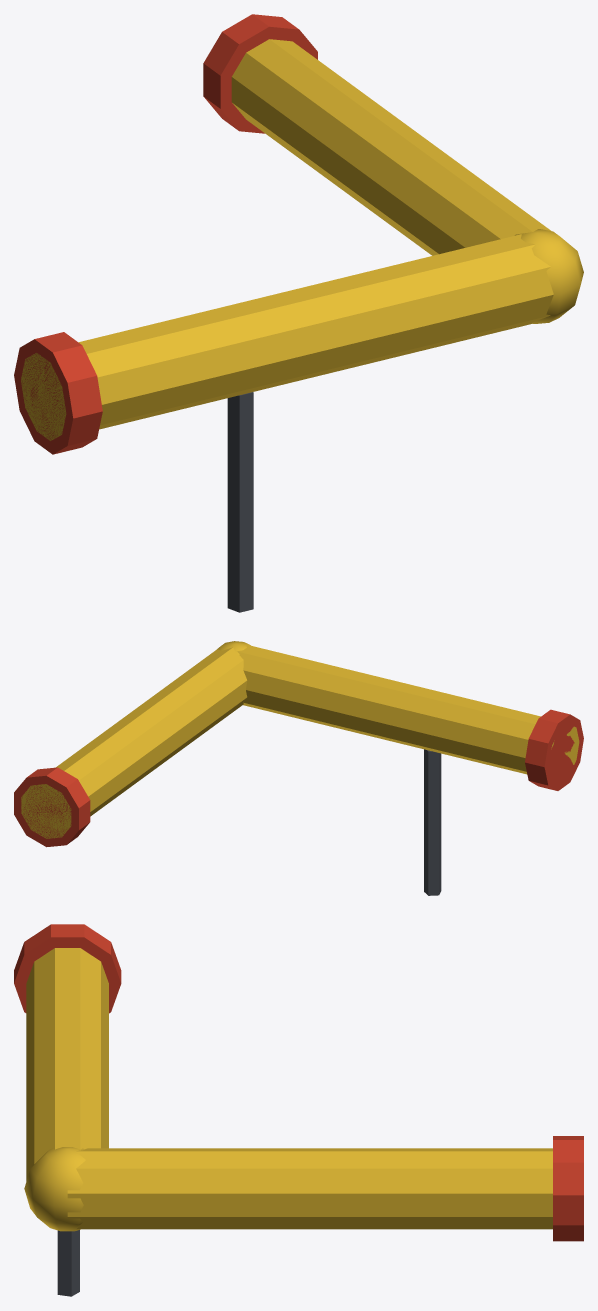
The model's file is PipeG_Corner.fbx.
3 views of the same model, one above another, from view 1: azimuth 30°, elevation 25°; view 2: azimuth 150°, elevation 25°; view 3: azimuth 270°, elevation 25° (orthographic). The views are drawn at different scales.
Visible parts, largest first — view 1: PipeG_Corner_Body; view 2: PipeG_Corner_Body; view 3: PipeG_Corner_Body.
Boxes of the visible parts, x1,y1,x2,y2 form: PipeG_Corner_Body: (14,14,583,612); PipeG_Corner_Body: (14,641,583,895); PipeG_Corner_Body: (14,924,583,1296).
Size of the model in its own units: 0.5495 by 0.302 by 0.552.
